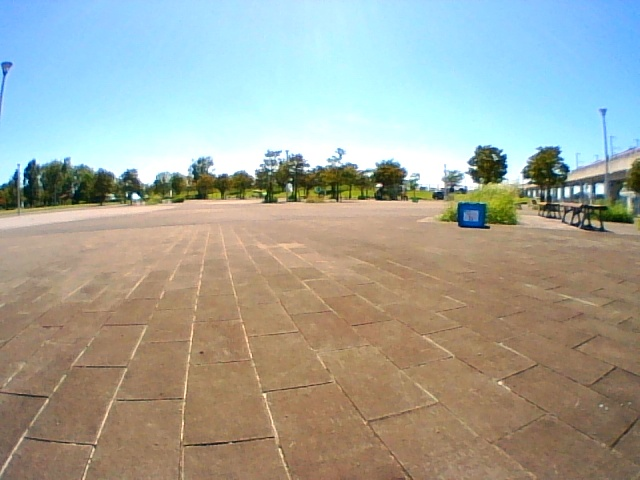blue_box: (458, 204, 487, 227)
tag: (464, 209, 479, 222)
